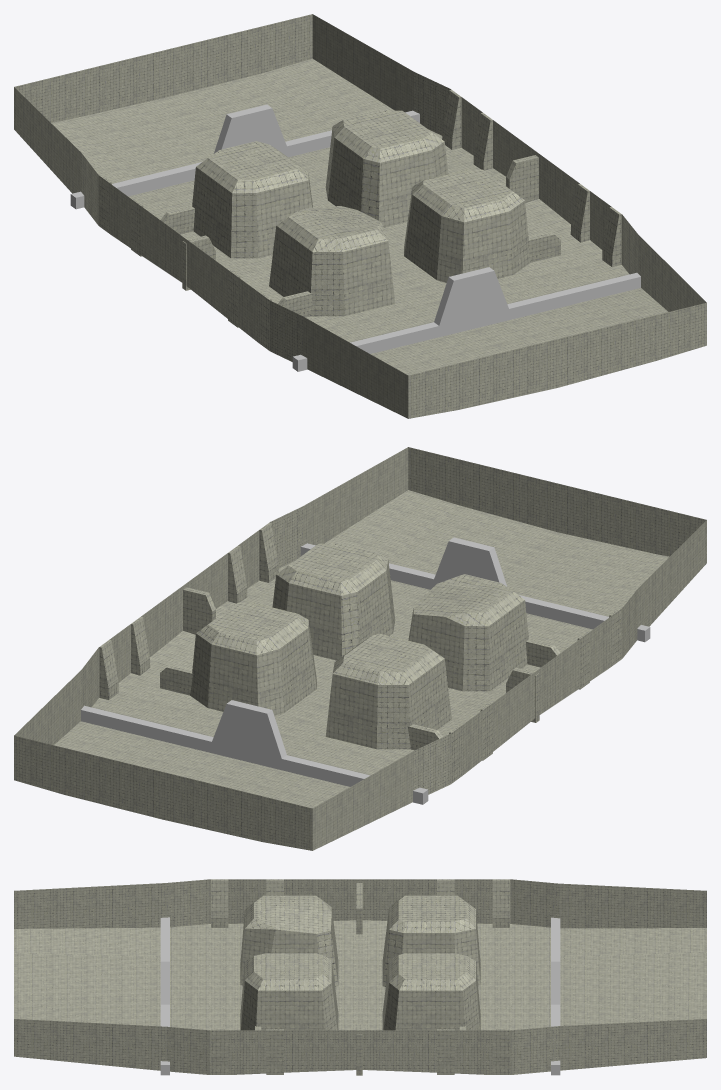
File: SM_TheSamePlace_15_Block_00.fbx
3 renders of one model, top to bottom at view 1: azimuth 30°, elevation 25°; view 2: azimuth 150°, elevation 25°; view 3: azimuth 270°, elevation 25°, orthographic. The views are drawn at different scales.
Visible parts, largest first — view 1: SM_TheSamePlace_15_Block_00; view 2: SM_TheSamePlace_15_Block_00; view 3: SM_TheSamePlace_15_Block_00.
Boxes of the visible parts, x1,y1,x2,y2 form: SM_TheSamePlace_15_Block_00: (14,14,706,418); SM_TheSamePlace_15_Block_00: (14,447,706,850); SM_TheSamePlace_15_Block_00: (14,879,706,1075).
Bounding box in the file's own units: 4141 × 797 × 7997.
